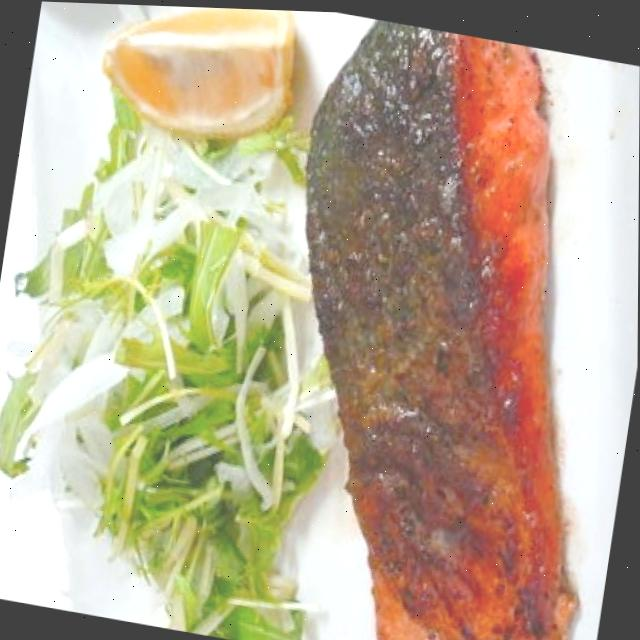熟制海鲜: (201, 6, 637, 640)
